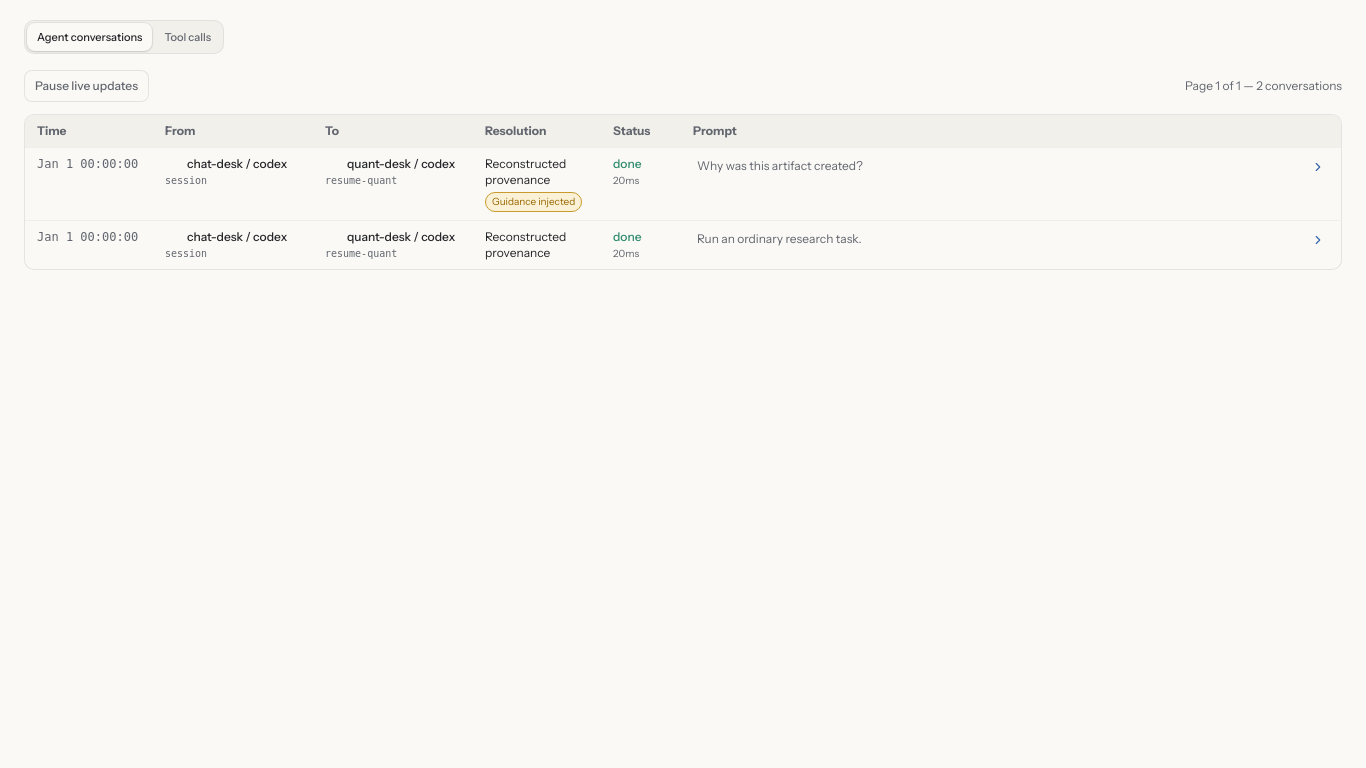
LogsPage Agent conversations › shows original and delivered prompts only for explicit reconstruction
Click the button "Why was this artifact created?".
click(780, 166)  # box [693,156,1329,176]
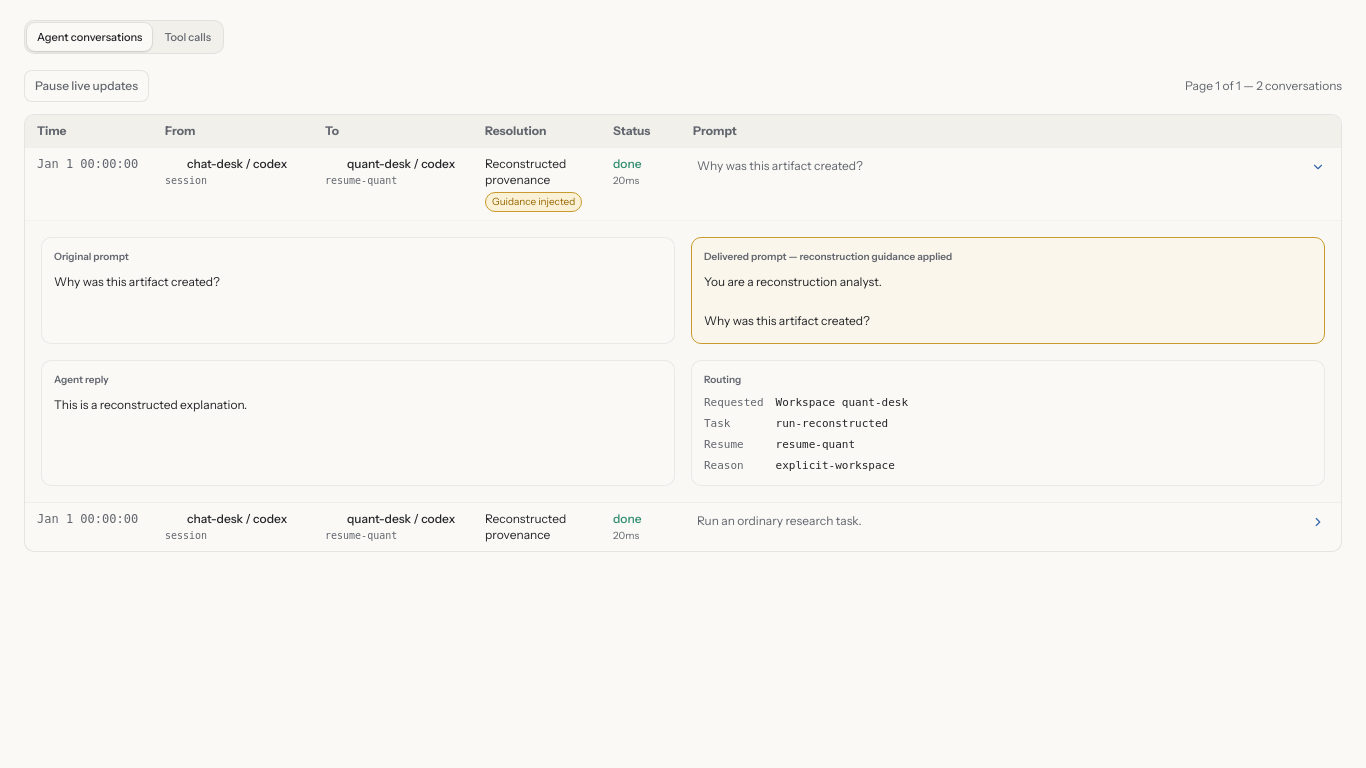
Result: the heading "Delivered prompt — reconstruction guidance applied" is shown at [704,250,952,263]
Result: the text "You are a reconstruction analyst" is shown at [704,274,882,328]
Result: the text "This is a reconstructed explanation." is shown at [54,396,247,412]
